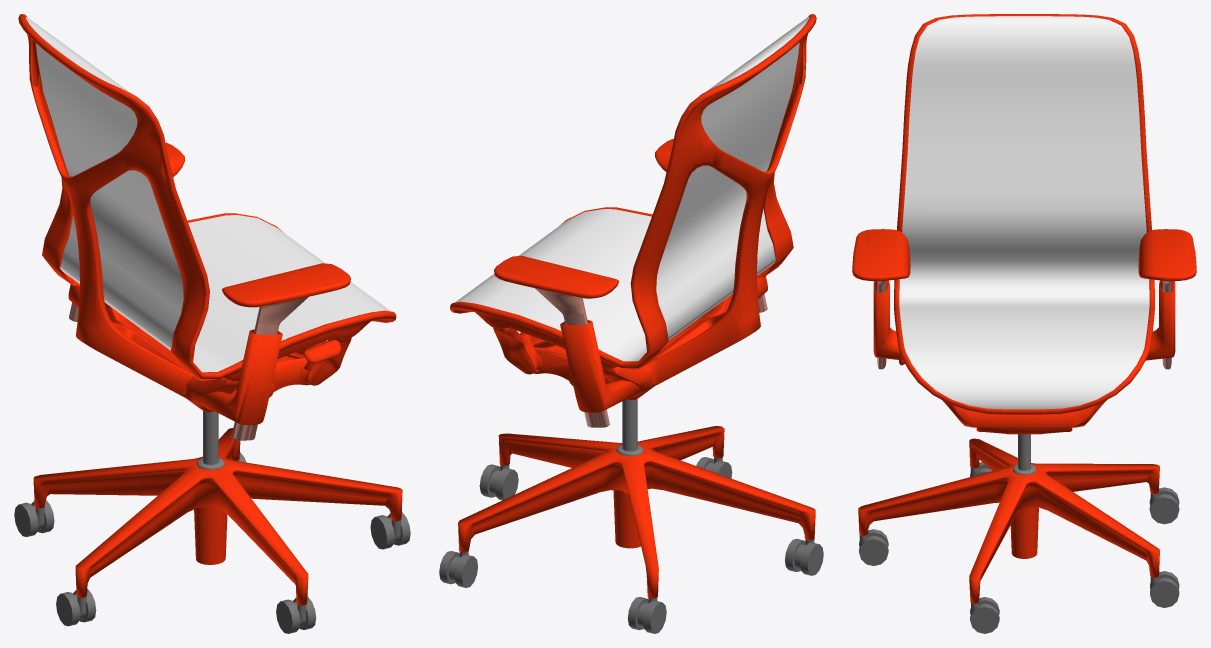
File: chair-hm-embody-gaming.glb
The picture shows the model from 3 angles, left to right: view 1: azimuth 30°, elevation 25°; view 2: azimuth 150°, elevation 25°; view 3: azimuth 270°, elevation 25°; orthographic projection. The views are drawn at different scales.
Parts seen in each view (by area): view 1: body; view 2: body; view 3: body.
Boxes of the visible parts, x1,y1,x2,y2 form: body: (14,14,410,633); body: (439,14,823,633); body: (852,14,1196,633).
Bounding box in the file's own units: 0.71 × 1.1 × 0.71.
